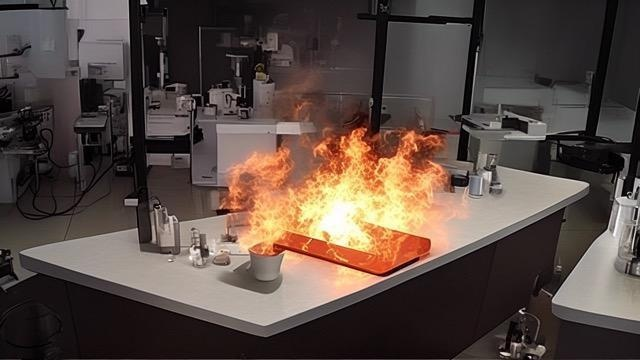fire: (218, 98, 444, 290)
